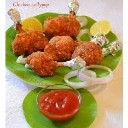chicken_lollipop: (7, 7, 46, 53), (45, 1, 83, 37), (26, 51, 85, 74), (75, 39, 121, 65)
